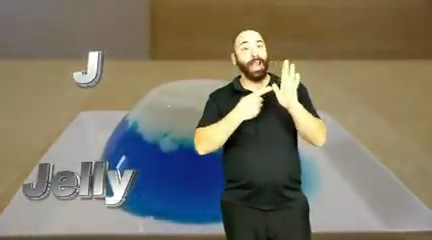J: (234, 55, 305, 125)
